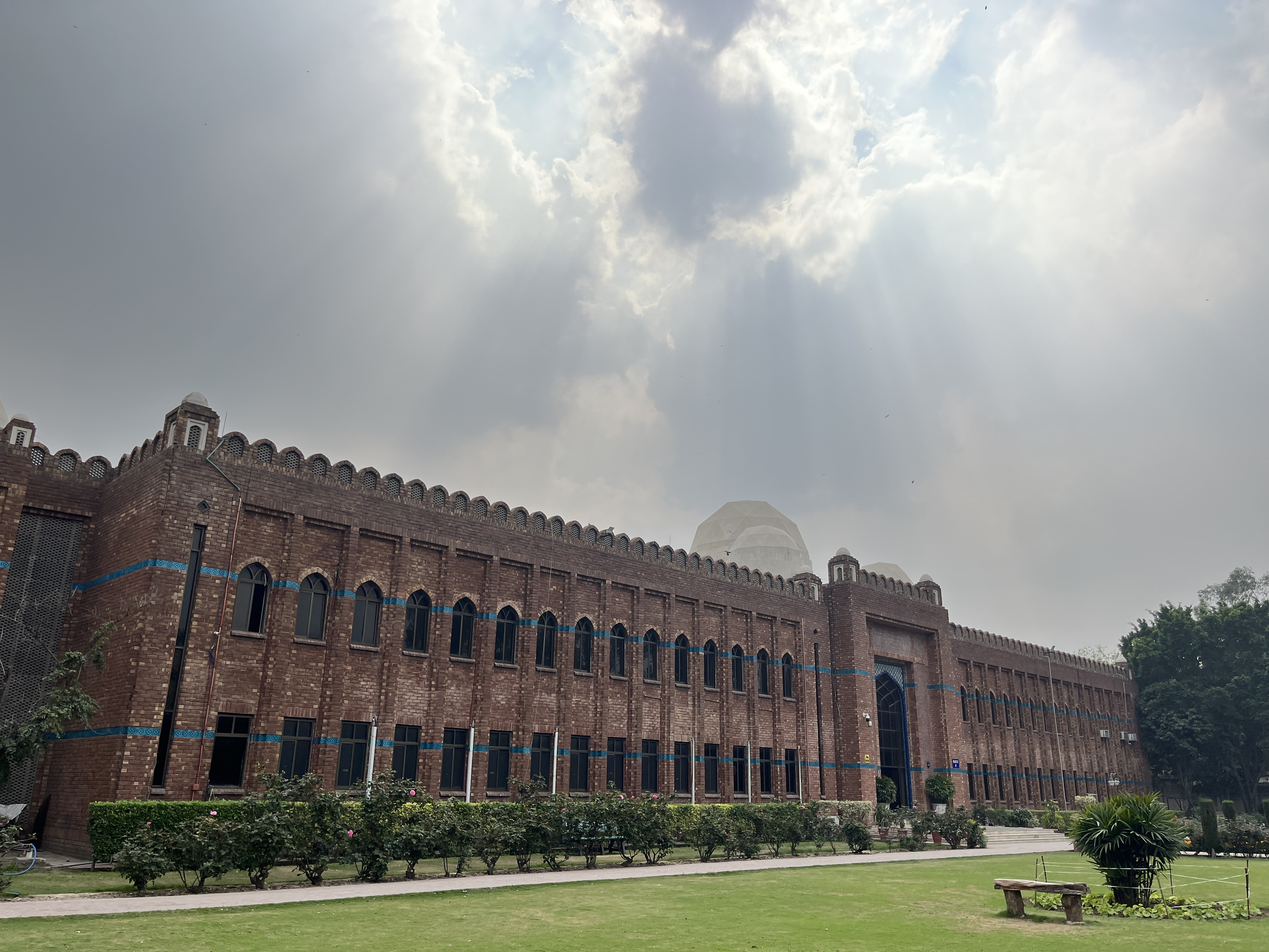Block B: (0, 386, 1269, 855)
